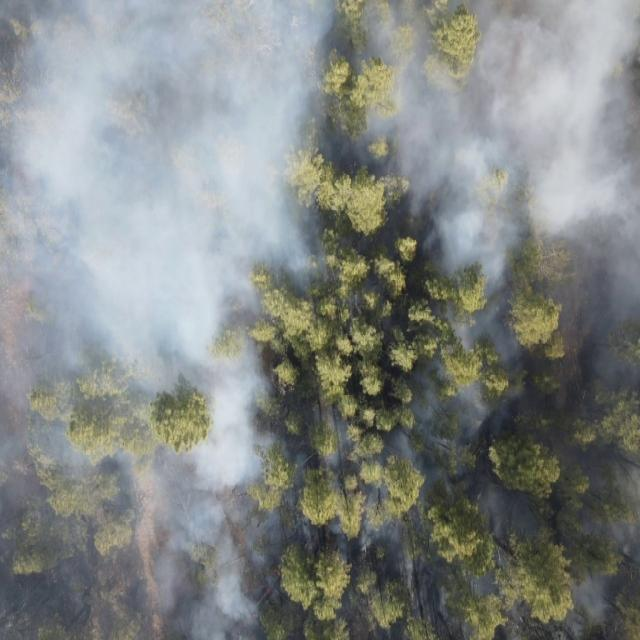smoke: (0, 0, 640, 291), (0, 291, 274, 640), (274, 402, 640, 640), (403, 292, 640, 403)
